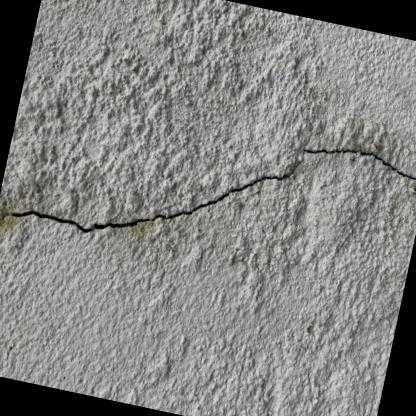crack: (0, 146, 416, 233)
